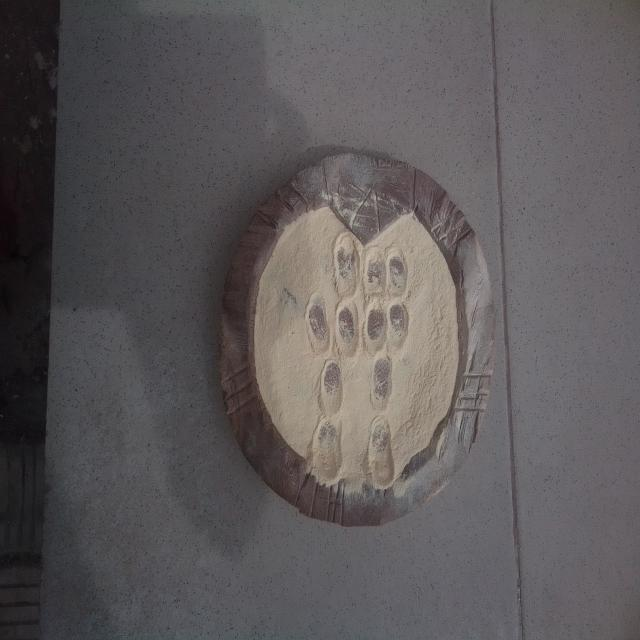double: (303, 288, 362, 361), (363, 296, 411, 358), (364, 245, 408, 303)
single: (312, 414, 345, 486), (366, 416, 398, 488), (332, 228, 362, 298), (315, 358, 348, 418), (370, 352, 395, 413)
